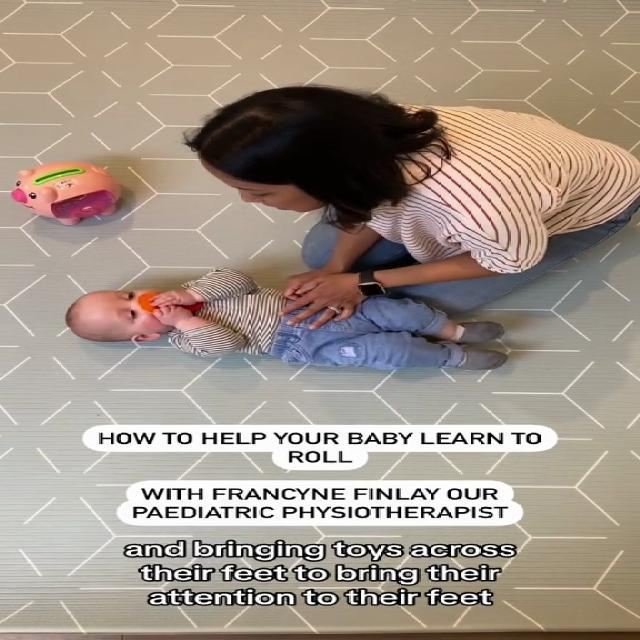baby: (65, 270, 528, 382)
